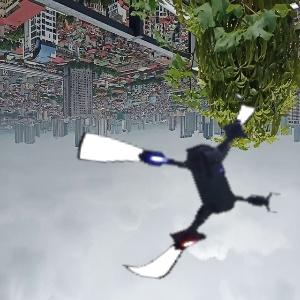drone: (72, 82, 287, 297)
